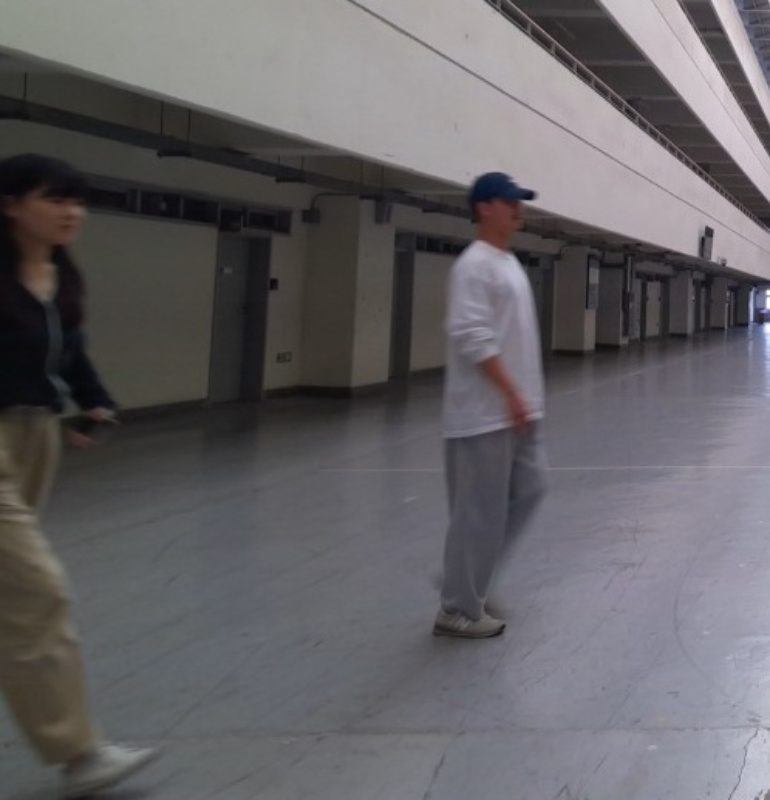person: (432, 169, 551, 642)
